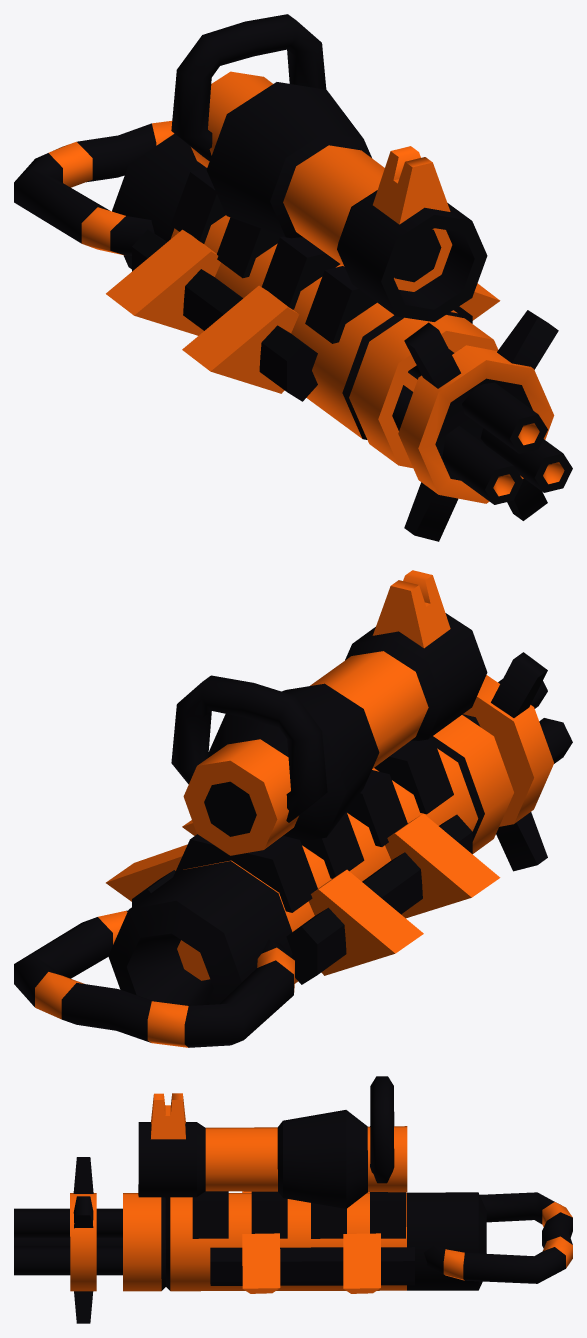
The model's file is 01_player_G_5_W.FBX.
3 renders of one model, top to bottom at view 1: azimuth 30°, elevation 25°; view 2: azimuth 150°, elevation 25°; view 3: azimuth 270°, elevation 25°, orthographic. The views are drawn at different scales.
Parts seen in each view (by area): view 1: 01_player_G_5; view 2: 01_player_G_5; view 3: 01_player_G_5.
Part boxes in pixels (x1,y1,x2,y2): 01_player_G_5: [14, 14, 572, 541]; 01_player_G_5: [14, 570, 572, 1047]; 01_player_G_5: [14, 1076, 572, 1323].
Bounding box in the file's own units: 62.74 × 69.68 × 159.
